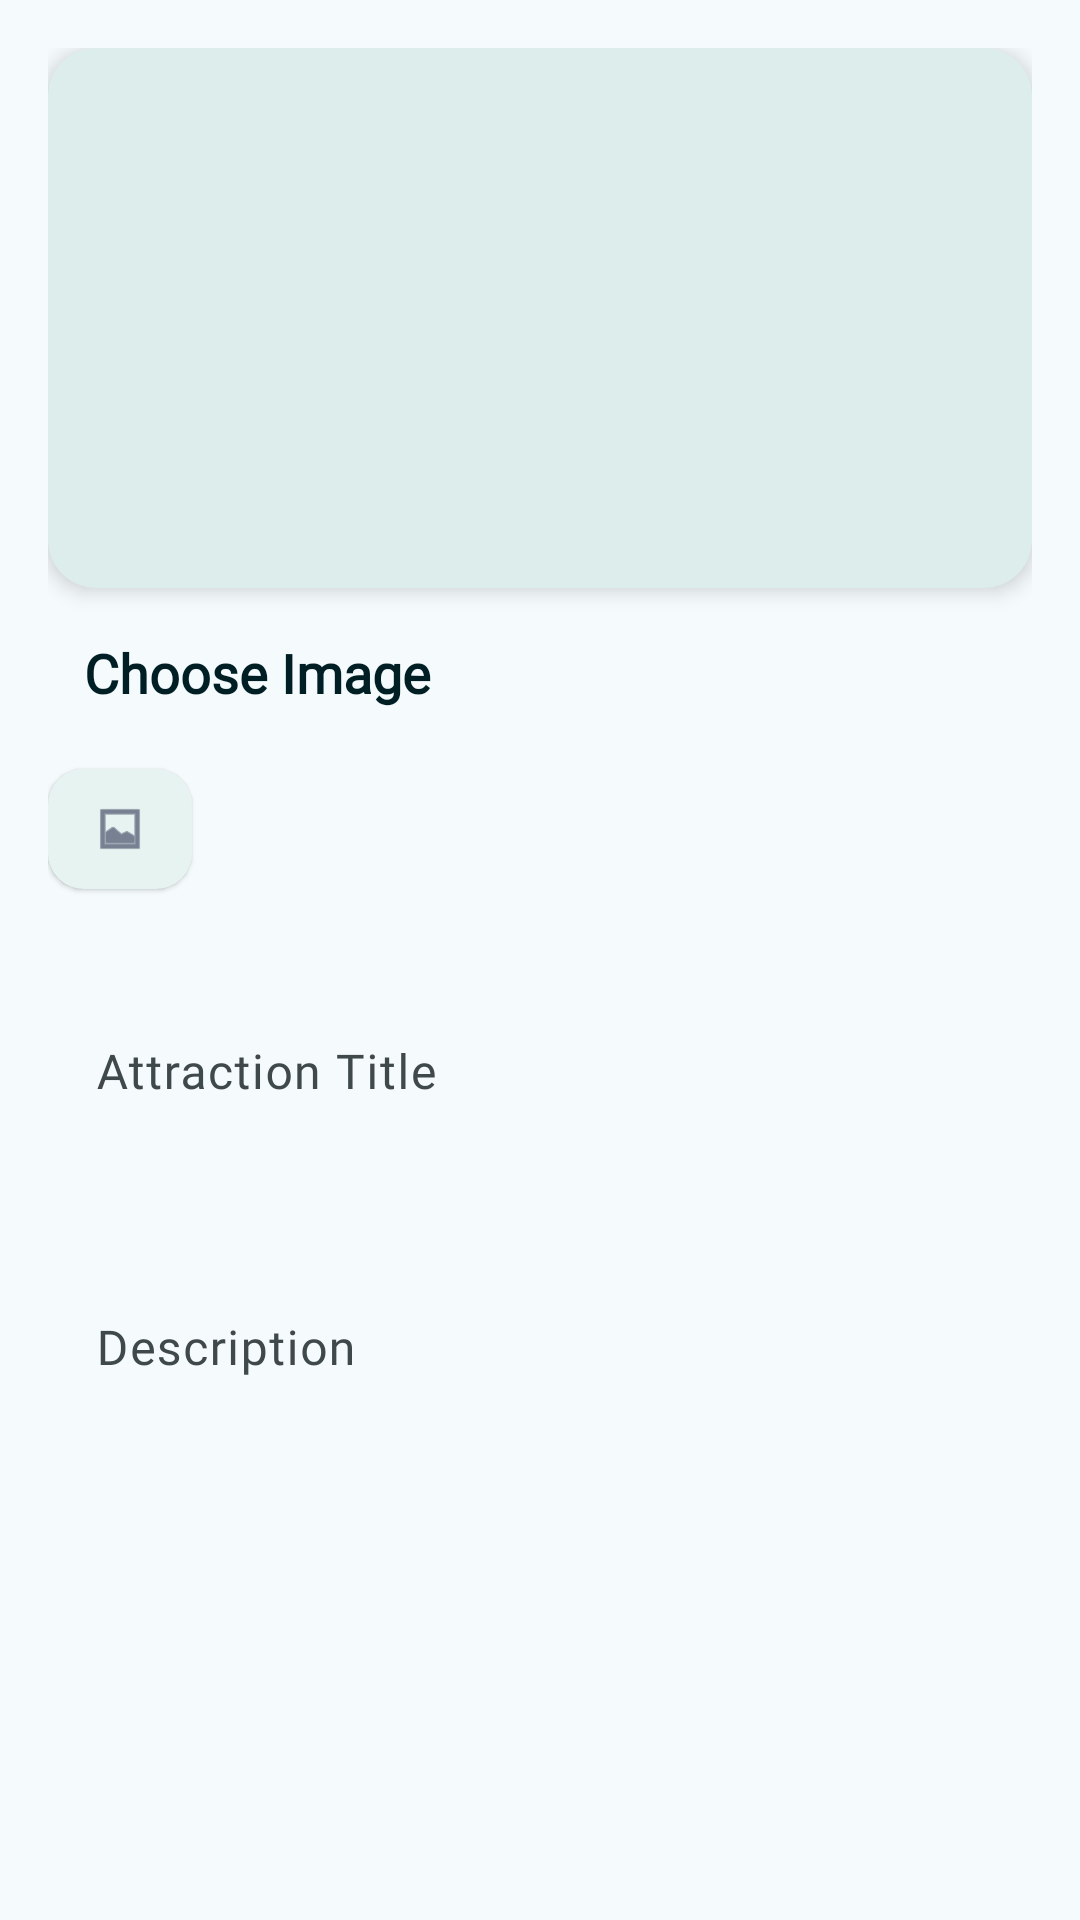

Screen size 1080px x 1920px. Icon name, then its center in pixels as (x,y):
gallery: (120,830)
